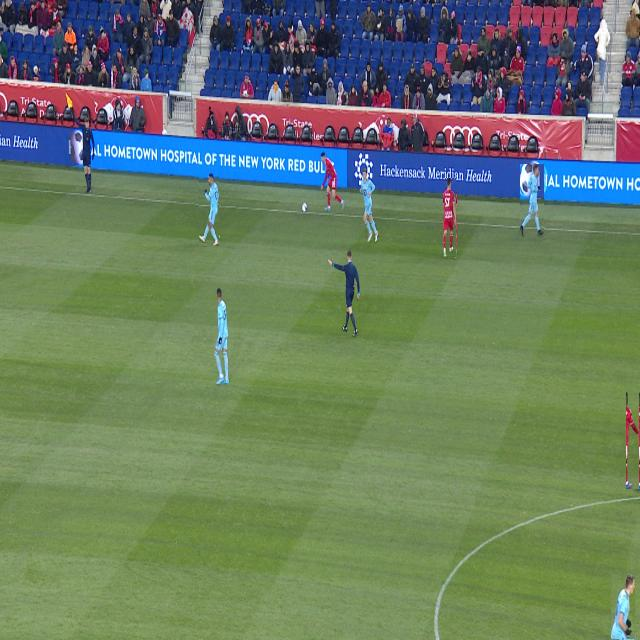player: (520, 165, 544, 237), (611, 574, 635, 639), (359, 168, 379, 242), (214, 289, 229, 384), (200, 173, 219, 246), (626, 392, 640, 489), (444, 179, 456, 257), (455, 221, 456, 225), (456, 225, 456, 227)
referee: (328, 251, 360, 336)
